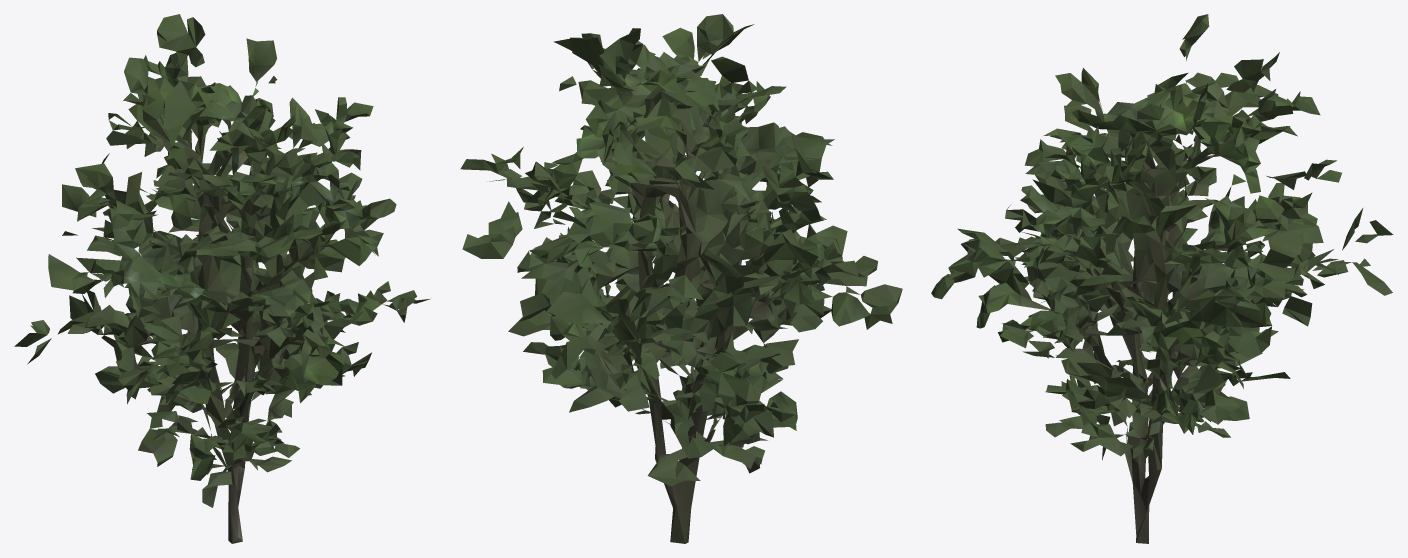
Rendered from lib_tp_xoai.vc.glb.
The picture shows the model from 3 angles, left to right: view 1: azimuth 30°, elevation 25°; view 2: azimuth 150°, elevation 25°; view 3: azimuth 270°, elevation 25°; orthographic projection. The views are drawn at different scales.
Visible parts, largest first — view 1: lib_tp_xoai; view 2: lib_tp_xoai; view 3: lib_tp_xoai.
Part boxes in pixels (x1,y1,x2,y2): lib_tp_xoai: [14, 14, 429, 543]; lib_tp_xoai: [460, 14, 902, 543]; lib_tp_xoai: [931, 14, 1393, 543].
Size of the model in its own units: 1.39 by 1.98 by 1.7.
